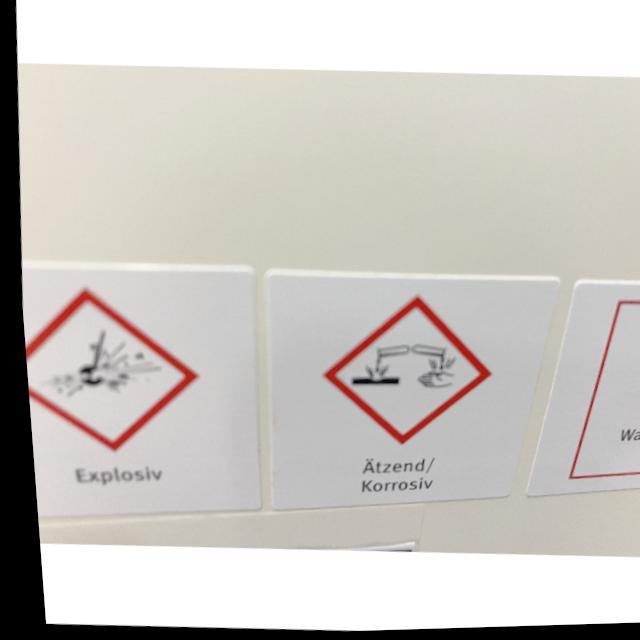corrosive: (309, 289, 495, 453)
explosive: (17, 280, 202, 458)
